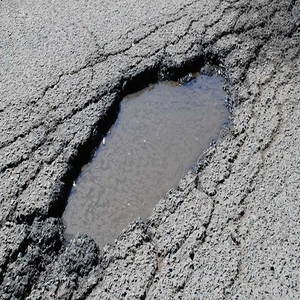pothole: (44, 48, 241, 257)
